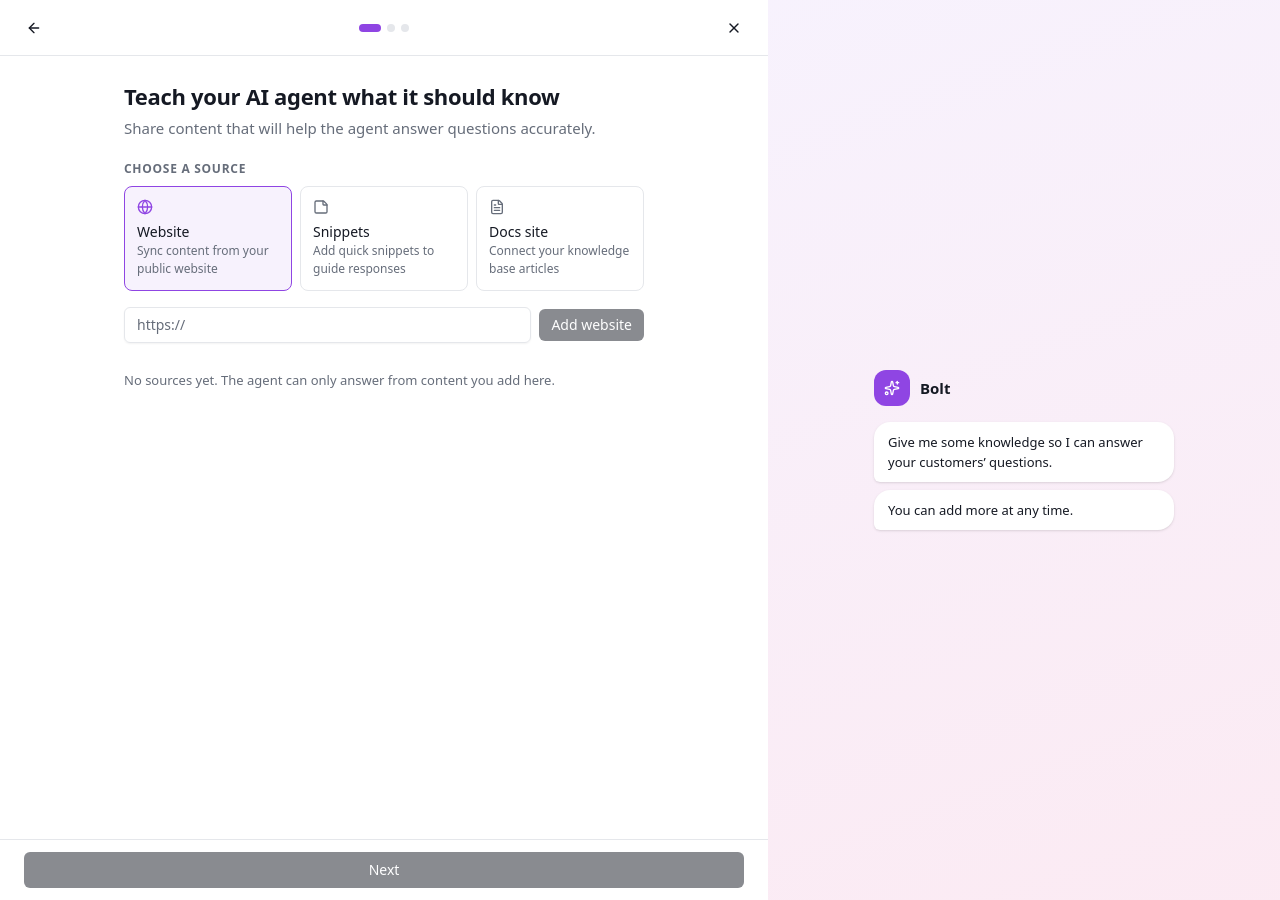
Test: the agent setup wizard › will not leave step one without a source to answer from
Expected: the button "Next" is disabled, top-left (24, 852), bottom-right (744, 888)
Type "https://example.com" into the field named "website url".
click(328, 324); type("https://example.com")  # box top-left (124, 306), bottom-right (531, 342)
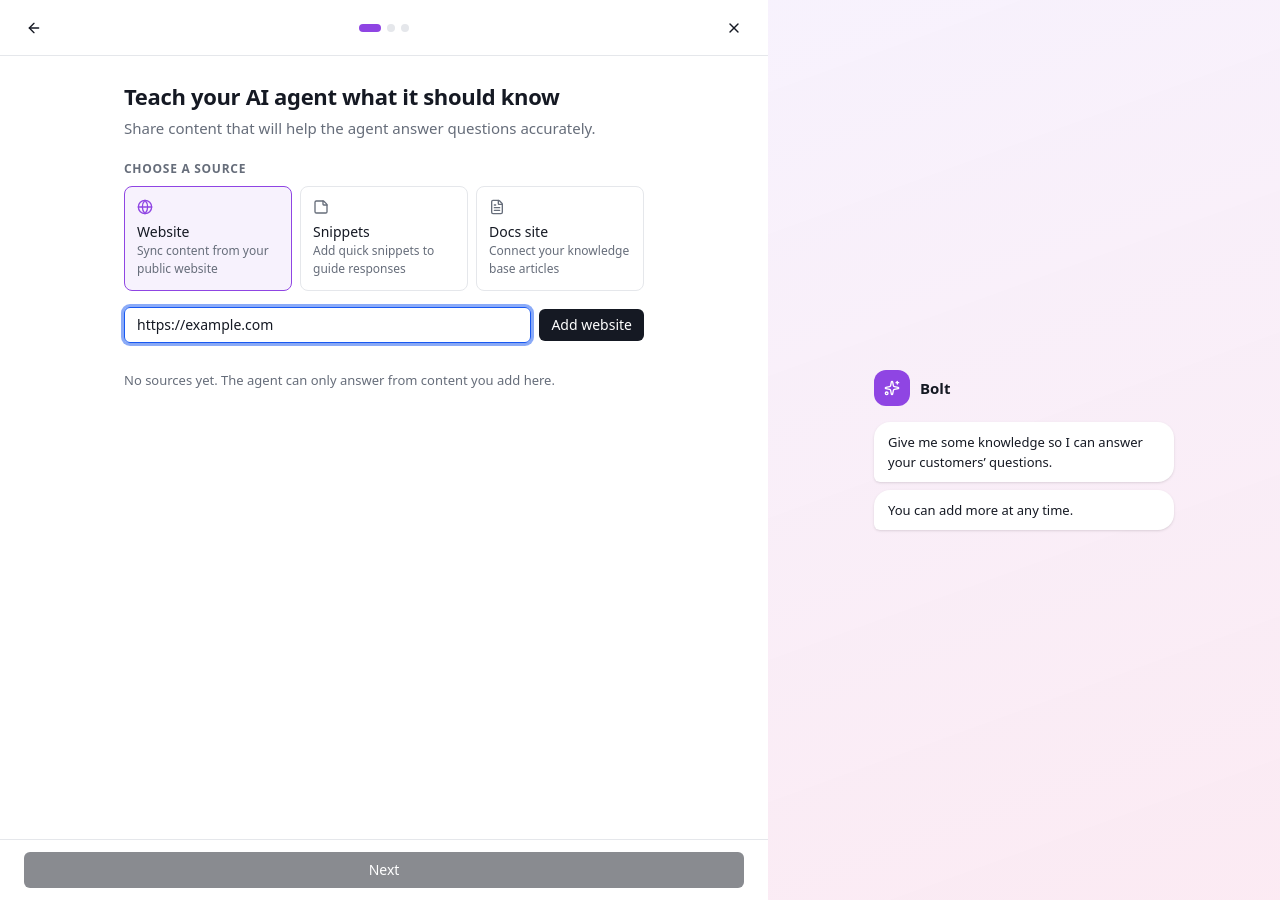
Now the button "Add website" is enabled, box top-left (539, 308), bottom-right (644, 340)
